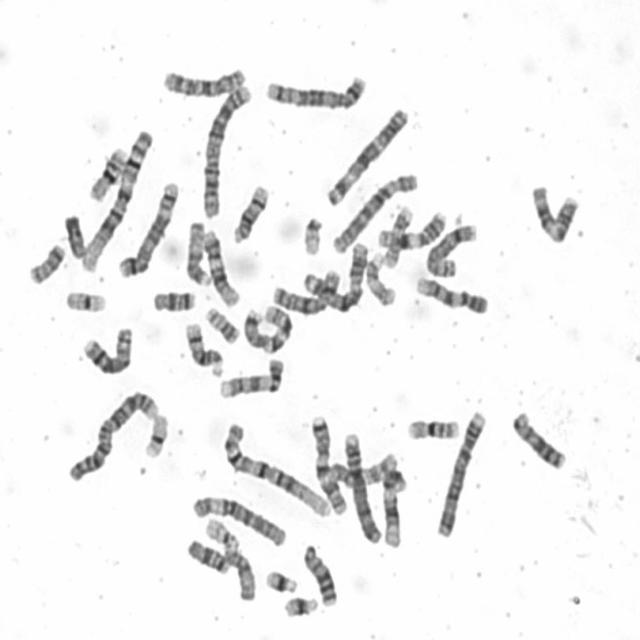A1: (79, 123, 155, 274), (222, 418, 333, 520)
A2: (64, 390, 161, 483), (200, 82, 256, 222)
A3: (326, 108, 412, 208), (302, 238, 371, 316)
B4: (434, 410, 486, 543), (342, 432, 384, 546)
B5: (117, 179, 180, 280), (264, 75, 370, 112)
C10: (328, 451, 401, 490), (161, 66, 247, 99)
C11: (525, 176, 581, 250), (375, 210, 449, 253)
C12: (200, 229, 242, 309), (380, 466, 410, 550)
C6: (331, 172, 419, 256), (191, 494, 288, 550)
C7: (309, 413, 349, 516), (241, 302, 295, 356)
C8: (423, 220, 480, 281), (82, 322, 134, 377)
C9: (414, 276, 493, 319), (217, 357, 286, 402)
D13: (510, 408, 570, 471), (300, 541, 340, 610)
D14: (231, 181, 272, 247), (183, 321, 225, 380)
D15: (222, 548, 258, 606), (184, 218, 213, 289)
E16: (89, 146, 132, 204), (402, 417, 463, 442)
E17: (380, 204, 414, 272), (365, 252, 398, 307)
E18: (184, 538, 231, 577), (149, 288, 198, 315)
F19: (57, 282, 111, 318), (142, 413, 169, 461)
F20: (28, 242, 68, 286), (202, 303, 242, 346)
G21: (263, 567, 299, 595), (282, 596, 321, 619)
G22: (202, 516, 241, 552), (302, 213, 323, 256)
X: (270, 266, 342, 318)
Y: (61, 213, 88, 261)
